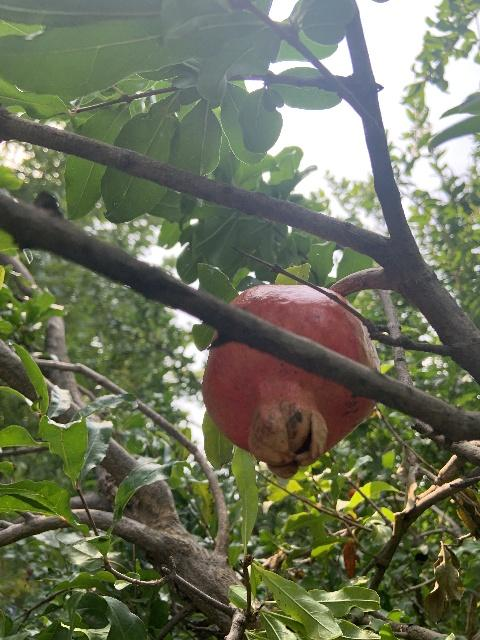ripe: (201, 283, 377, 477)
